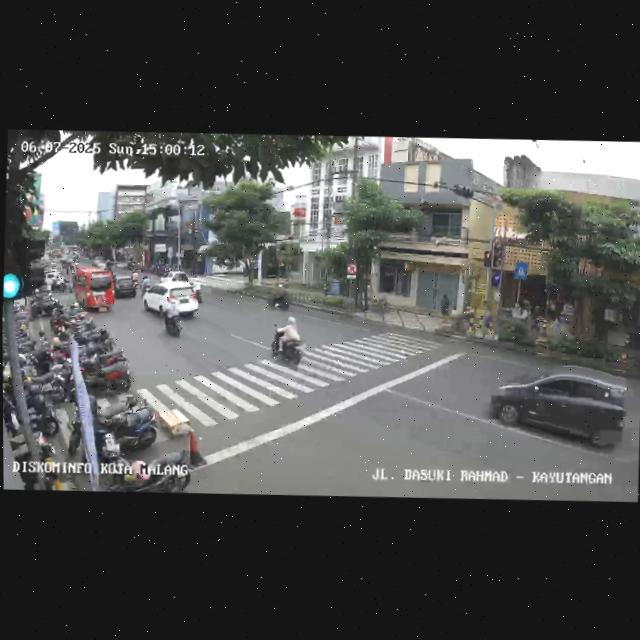car: (488, 366, 631, 458), (141, 281, 201, 319), (70, 267, 116, 314), (113, 273, 139, 299)
motorcycle: (267, 317, 306, 369), (162, 297, 185, 338), (273, 282, 291, 311)
